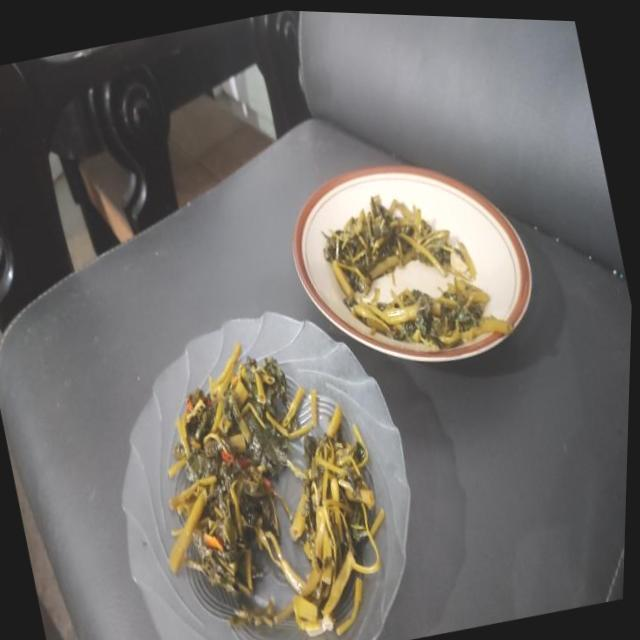tumis_kangkung: (169, 356, 312, 594), (290, 404, 383, 634), (324, 200, 474, 296), (346, 284, 512, 348)
